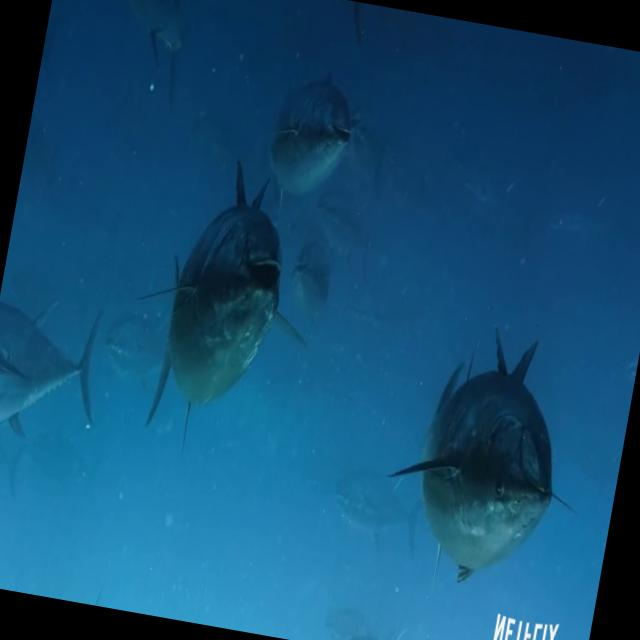fish: (368, 302, 605, 617), (127, 150, 340, 468), (0, 274, 129, 474), (242, 54, 364, 222)
